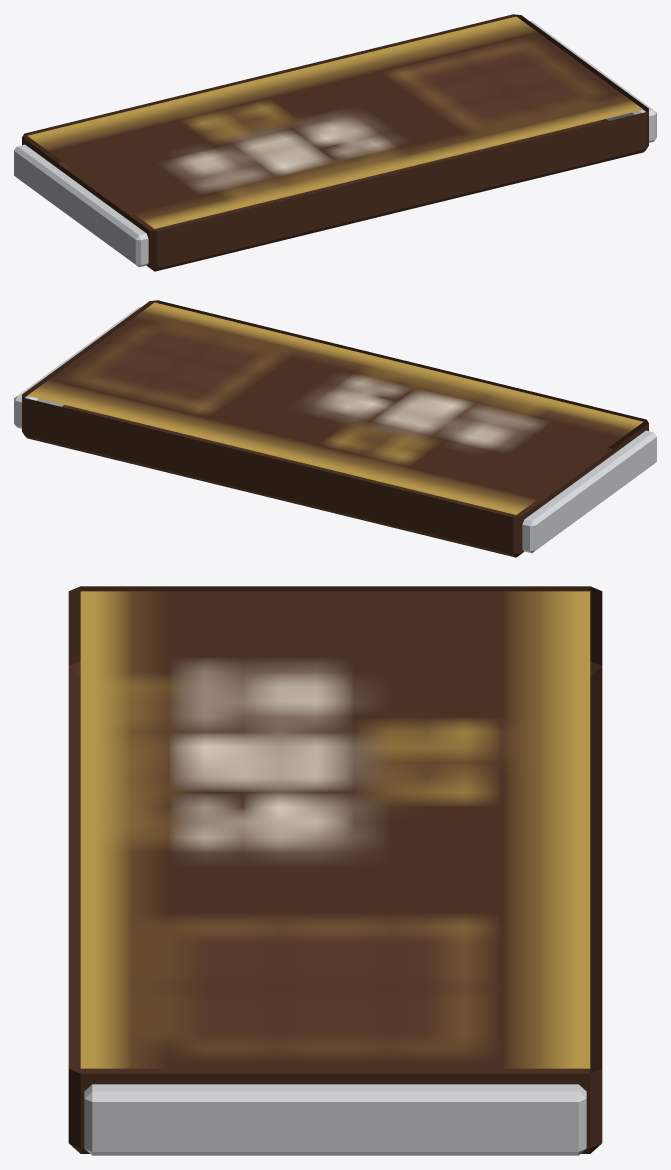
The model's file is SC_Prod_ChocoBar.gltf.
The picture shows the model from 3 angles, top to bottom: view 1: azimuth 30°, elevation 25°; view 2: azimuth 150°, elevation 25°; view 3: azimuth 270°, elevation 25°; orthographic projection. The views are drawn at different scales.
Parts seen in each view (by area): view 1: SC_Prod_ChocoBar; view 2: SC_Prod_ChocoBar; view 3: SC_Prod_ChocoBar.
Boxes of the visible parts, x1,y1,x2,y2 form: SC_Prod_ChocoBar: (14, 14, 656, 271); SC_Prod_ChocoBar: (14, 300, 656, 557); SC_Prod_ChocoBar: (68, 586, 602, 1155).
Bounding box in the file's own units: 0.1535 × 0.012 × 0.068.
Materials: 2 (2 with a texture image).
